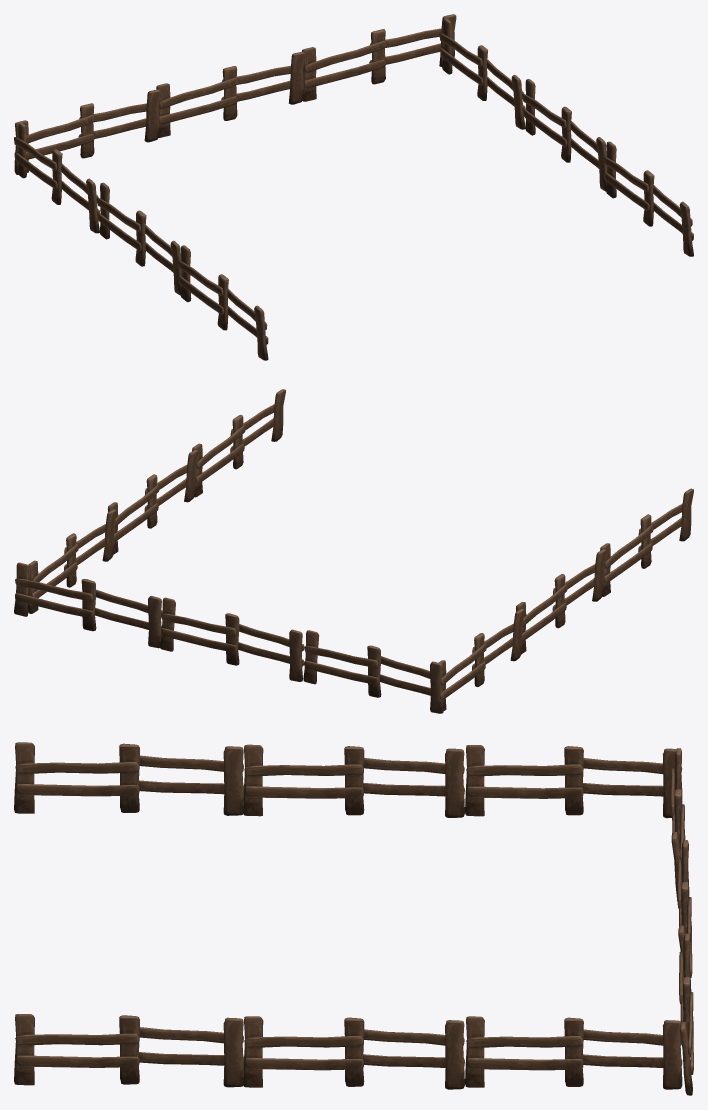
File: fence.glb
3 views of the same model, one above another, from view 1: azimuth 30°, elevation 25°; view 2: azimuth 150°, elevation 25°; view 3: azimuth 270°, elevation 25° (orthographic). The views are drawn at different scales.
Parts seen in each view (by area): view 1: g Group3428_01 - Default_0.001; view 2: g Group3428_01 - Default_0.001; view 3: g Group3428_01 - Default_0.001.
Part boxes in pixels (<box>): g Group3428_01 - Default_0.001: <box>14,14,693,360</box>; g Group3428_01 - Default_0.001: <box>14,389,693,713</box>; g Group3428_01 - Default_0.001: <box>14,742,693,1095</box>.
Size of the model in its own units: 9.14 by 1 by 9.12.
1 material, 1 textured.
